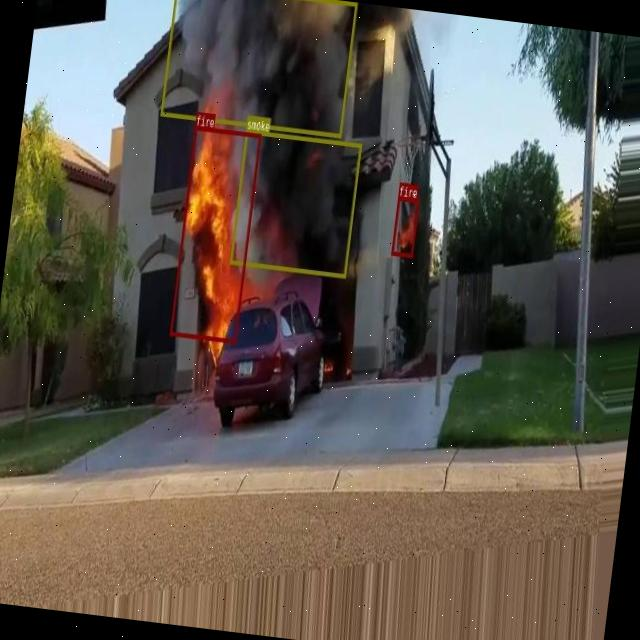fire: (170, 126, 260, 342), (391, 196, 418, 256)
smoke: (160, 0, 357, 137), (229, 128, 361, 276)
